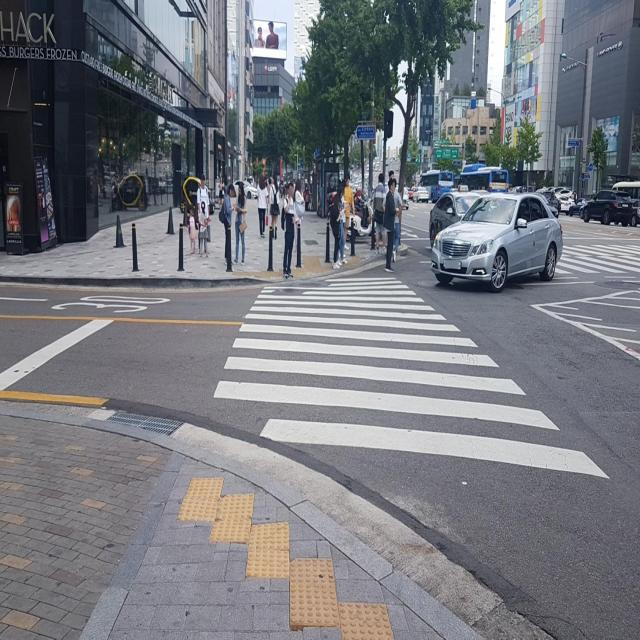횡단보도: (212, 276, 612, 483), (551, 241, 640, 276)
